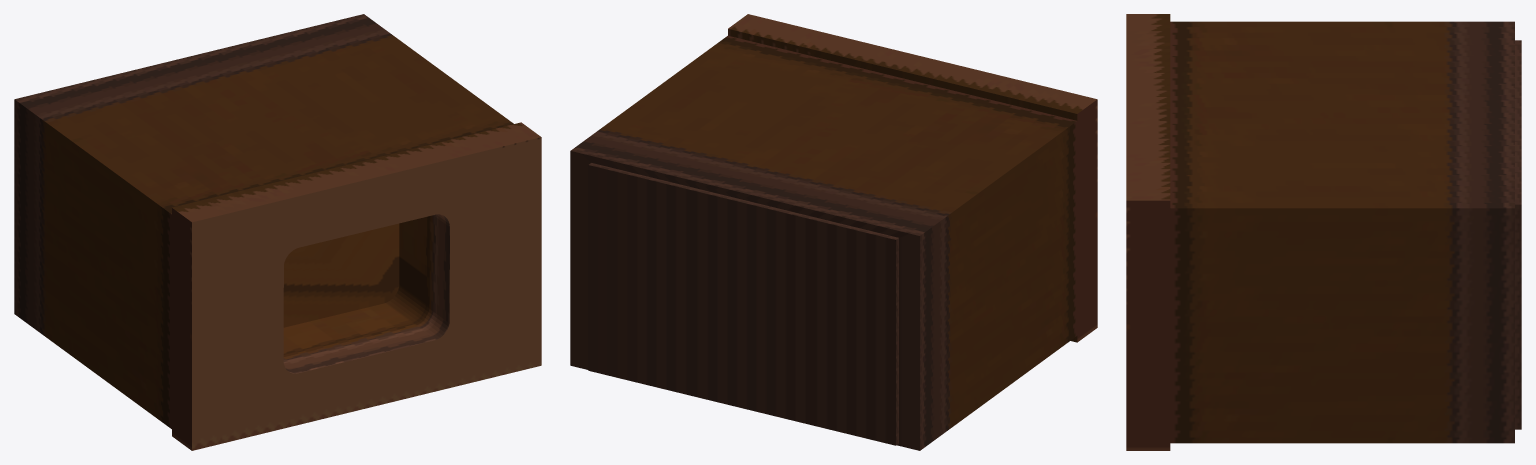
The model's file is pz_counter_dark_oak_floor__sink_inset_rect.obj.
3 renders of one model, left to right at view 1: azimuth 30°, elevation 25°; view 2: azimuth 150°, elevation 25°; view 3: azimuth 270°, elevation 25°, orthographic. The views are drawn at different scales.
Size of the model in its own units: 1 by 0.6266 by 0.895.
1 material, 1 textured.
